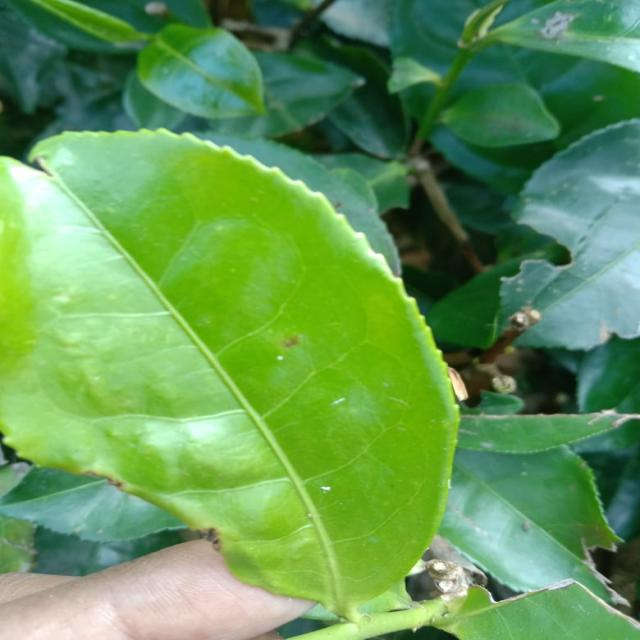Category B 2-4 days: (0, 124, 464, 615)
